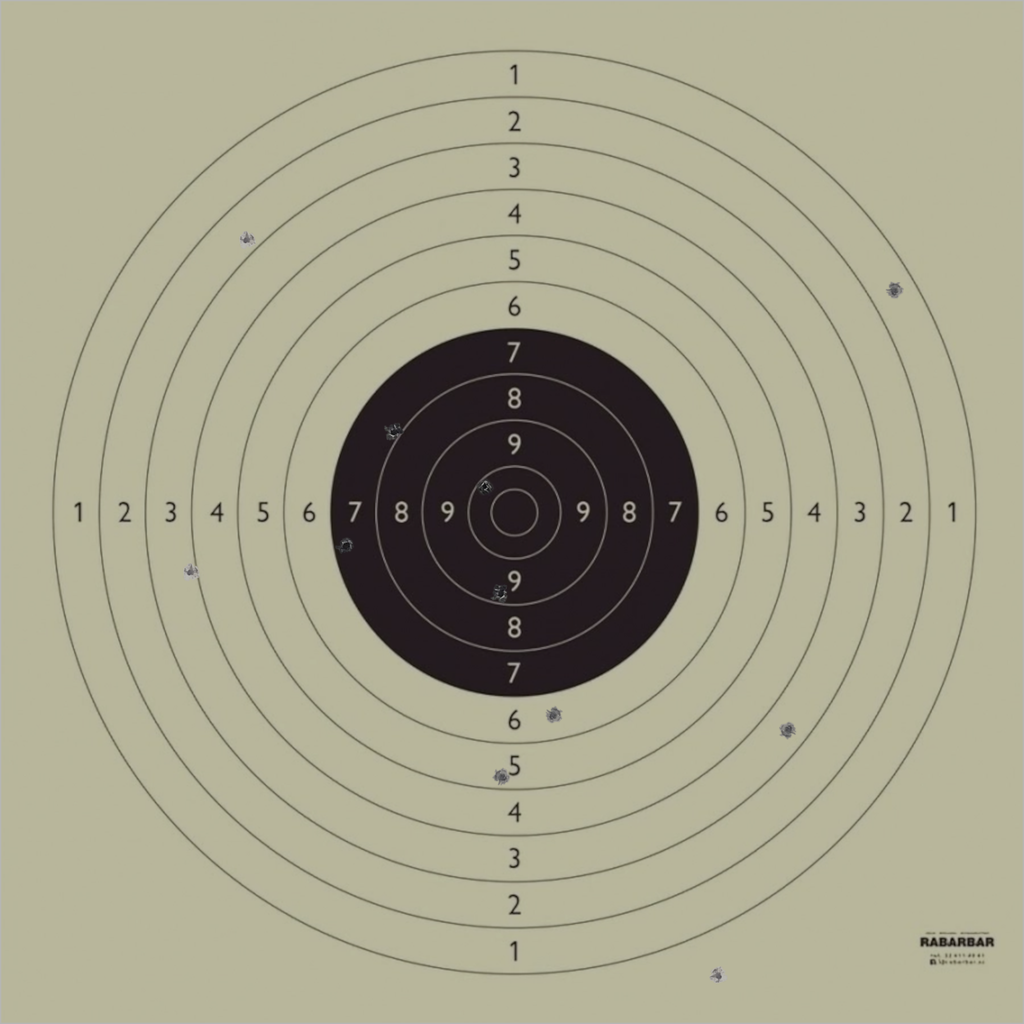0 punktow: (709, 967, 727, 985)
1 punkt: (885, 282, 904, 300)
10 punktow: (476, 477, 494, 495)
2 punkty: (237, 231, 256, 249)
3 punkty: (779, 720, 797, 739)
4 punkty: (181, 563, 200, 581)
5 punktow: (493, 768, 511, 786)
6 punktow: (544, 706, 563, 725)
7 punktow: (337, 537, 355, 555)
8 punktow: (385, 423, 404, 441)
9 punktow: (492, 584, 510, 602)
